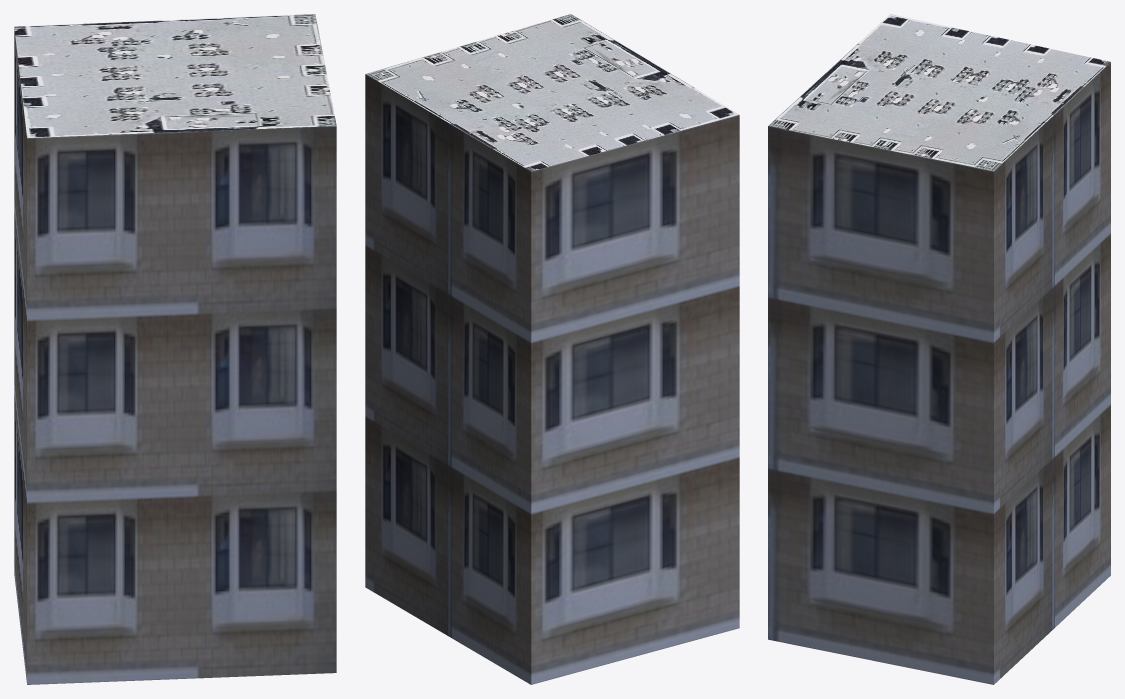
Rendered from ResTex__2075.fbx.
The picture shows the model from 3 angles, left to right: view 1: azimuth 30°, elevation 25°; view 2: azimuth 150°, elevation 25°; view 3: azimuth 270°, elevation 25°; orthographic projection. The views are drawn at different scales.
Visible parts, largest first — view 1: CityEngineMaterial_3_m, CityEngineMaterial_8_m; view 2: CityEngineMaterial_3_m, CityEngineMaterial_8_m; view 3: CityEngineMaterial_3_m, CityEngineMaterial_8_m.
Part boxes in pixels (<box>): CityEngineMaterial_3_m: <box>14,29,336,684</box>; CityEngineMaterial_8_m: <box>14,14,336,137</box>; CityEngineMaterial_3_m: <box>365,74,739,684</box>; CityEngineMaterial_8_m: <box>366,14,738,171</box>; CityEngineMaterial_3_m: <box>768,62,1110,684</box>; CityEngineMaterial_8_m: <box>768,14,1110,171</box>.
Size of the model in its own units: 5.91 by 9 by 5.45.
Materials: 2 (2 with a texture image).
